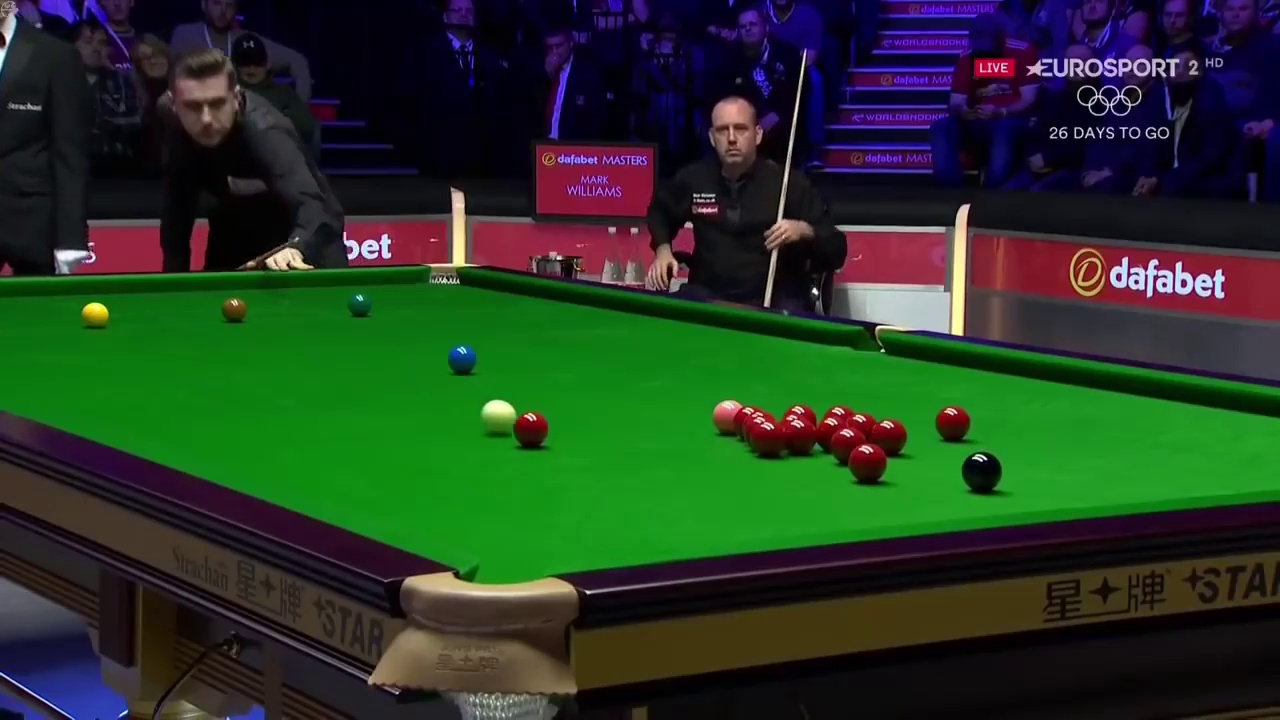black: (962, 450, 1003, 493)
blue: (446, 344, 477, 372)
brown: (218, 295, 249, 319)
green: (345, 289, 373, 316)
red: (850, 444, 886, 482), (515, 411, 550, 447), (936, 407, 970, 442), (751, 422, 785, 455), (785, 422, 815, 453)
white: (479, 397, 516, 435)
yellow: (80, 299, 109, 325)
